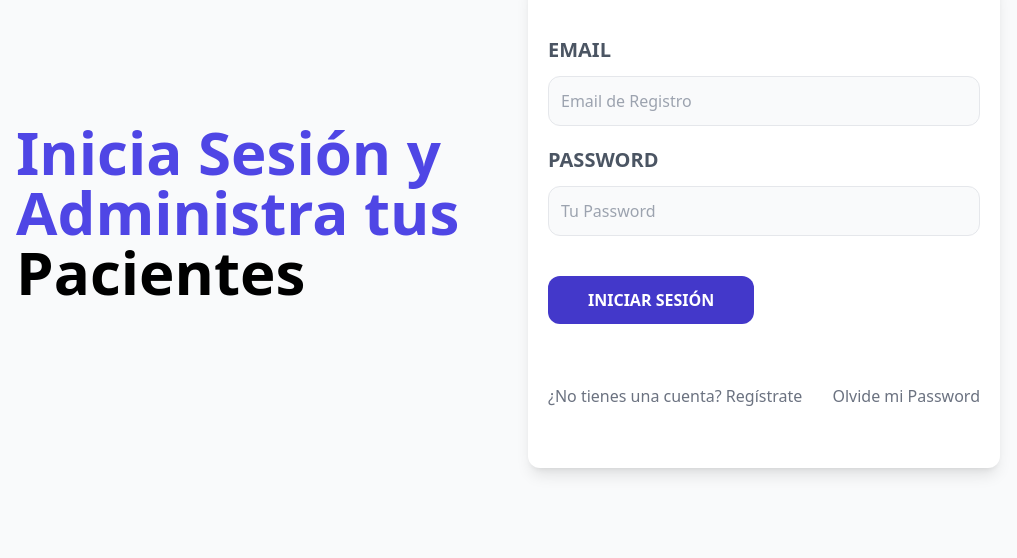
Pruebas en el formulario de Login › Debe mostrar error si los campos están vacíos al enviar el formulario
The width and height of the screenshot is (1017, 558).
Click en el botón de enviar sin llenar los campos
Click the submit button: click(651, 300) [548,276,754,324]
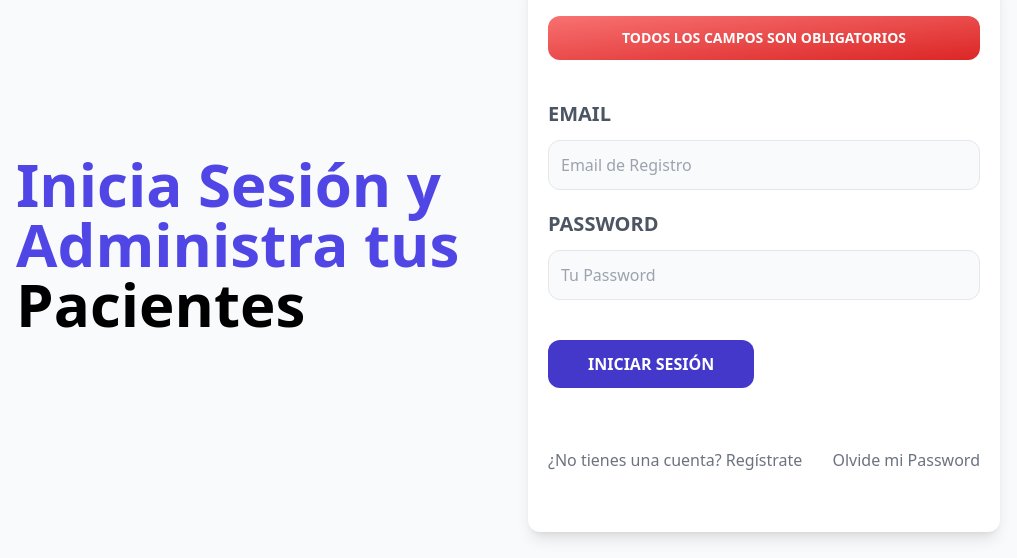
Now the text with class "alerta" reads "Todos los campos son obligatorios", box [548,16,980,60]
